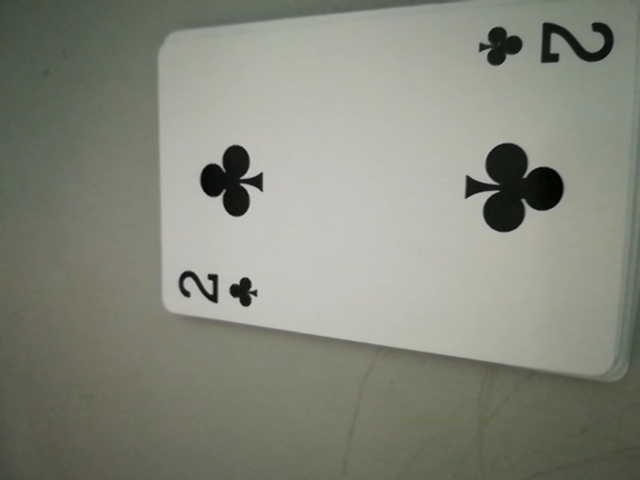mh 2: (479, 13, 617, 78), (172, 263, 266, 317)
